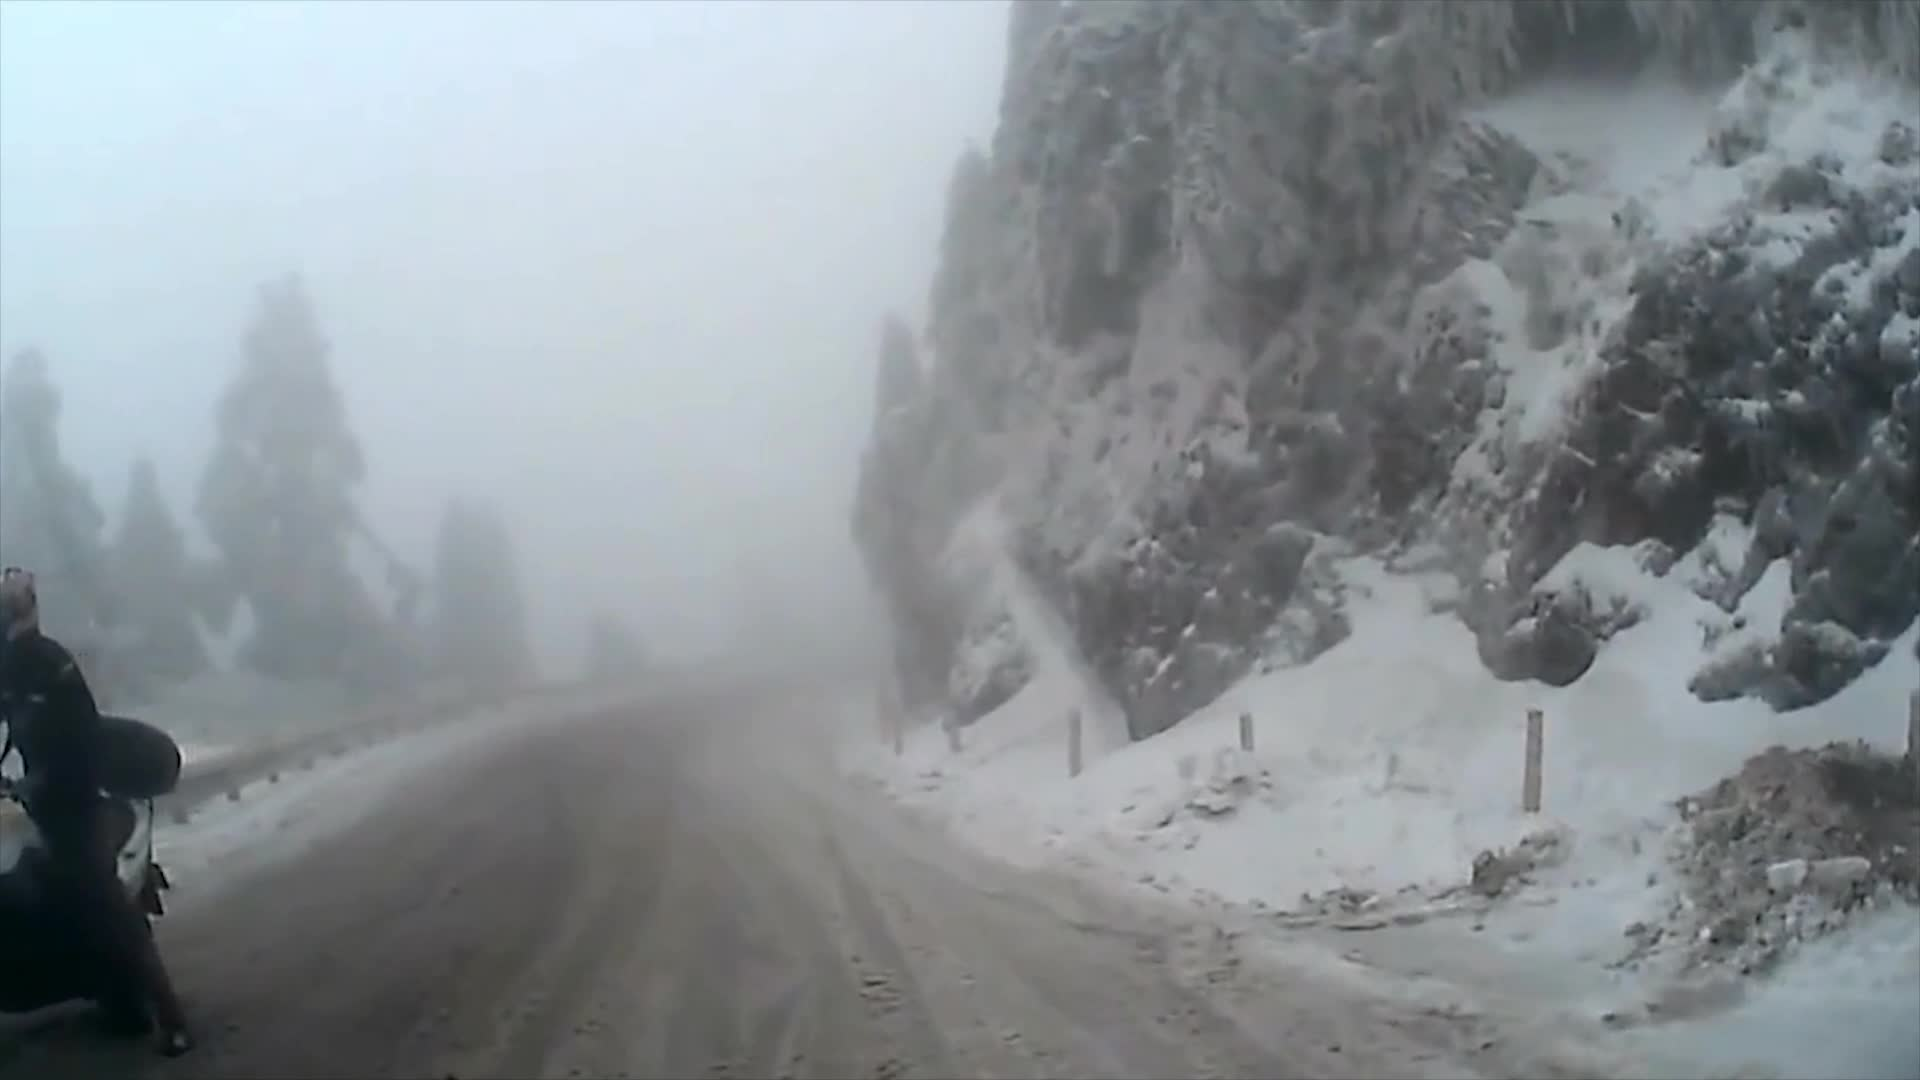pedestrian: (3, 553, 197, 1052)
